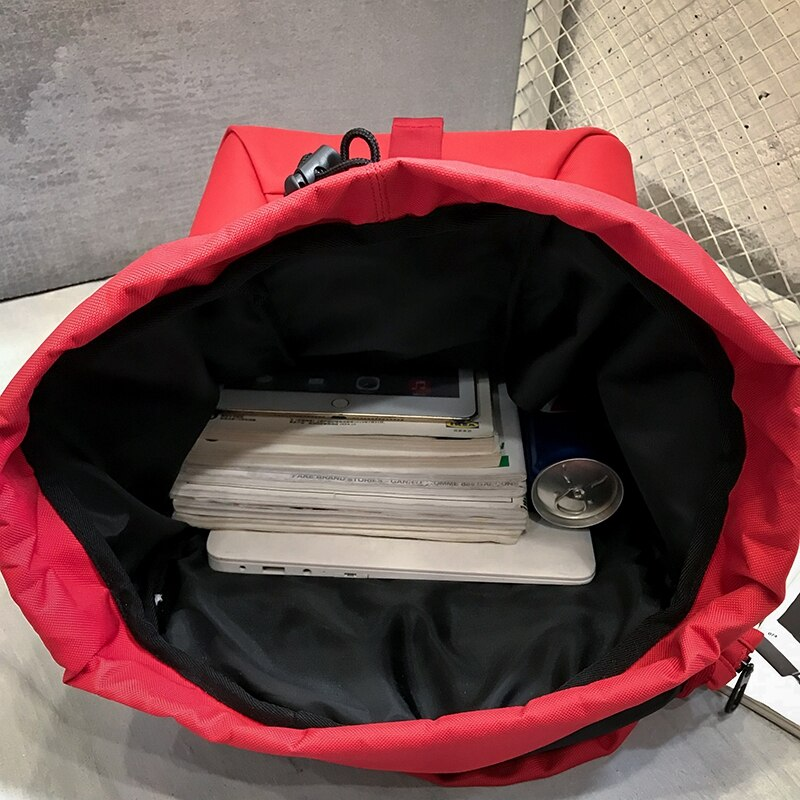Men's Backpacks: (1, 113, 800, 786)
